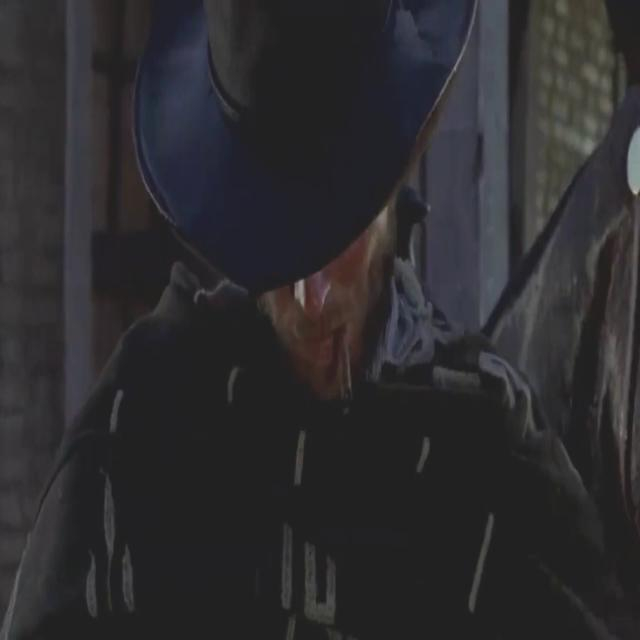Smooking: (332, 325, 359, 401)
